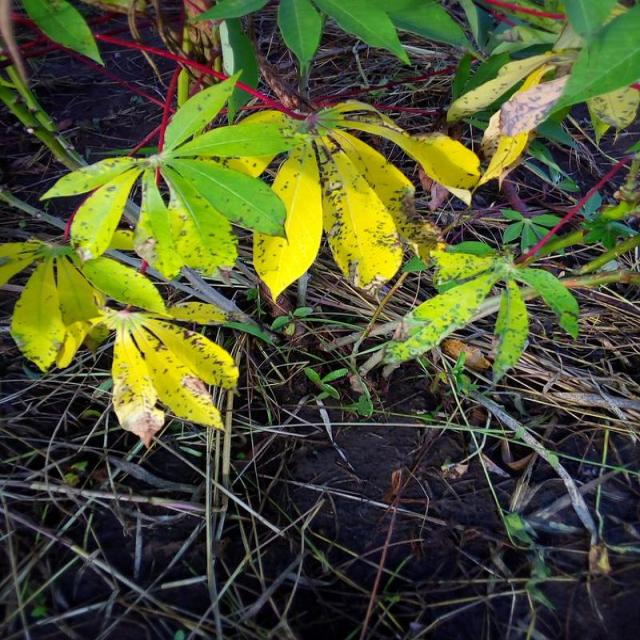cassava leaf: (38, 68, 292, 282), (222, 97, 480, 302)
